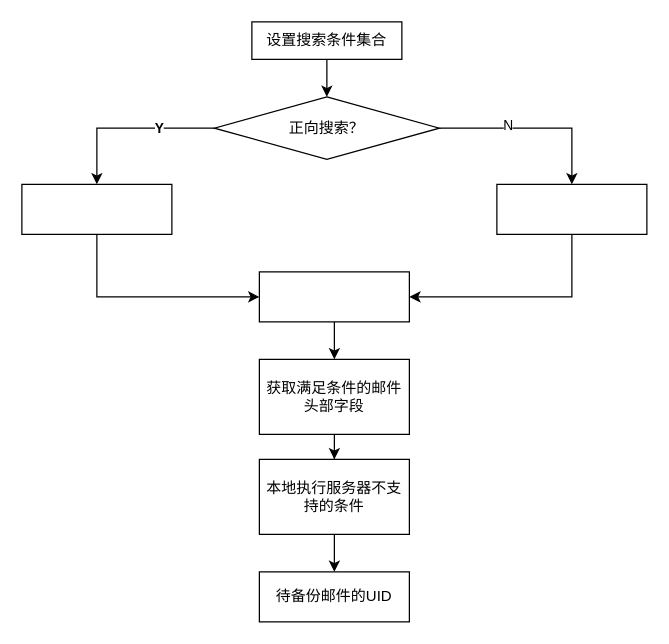
The diagram is 669 pixels wide and 644 high, and some of its shapes have lost their labels. The shapes that lost their labels are listed below. From the top down, each one's centre as x and y in pixels, then its label:
At point 96,208: "各条件取交集".
At point 571,208: "各条件取反再取并集".
At point 333,296: "先执行服务器支持的条件".
